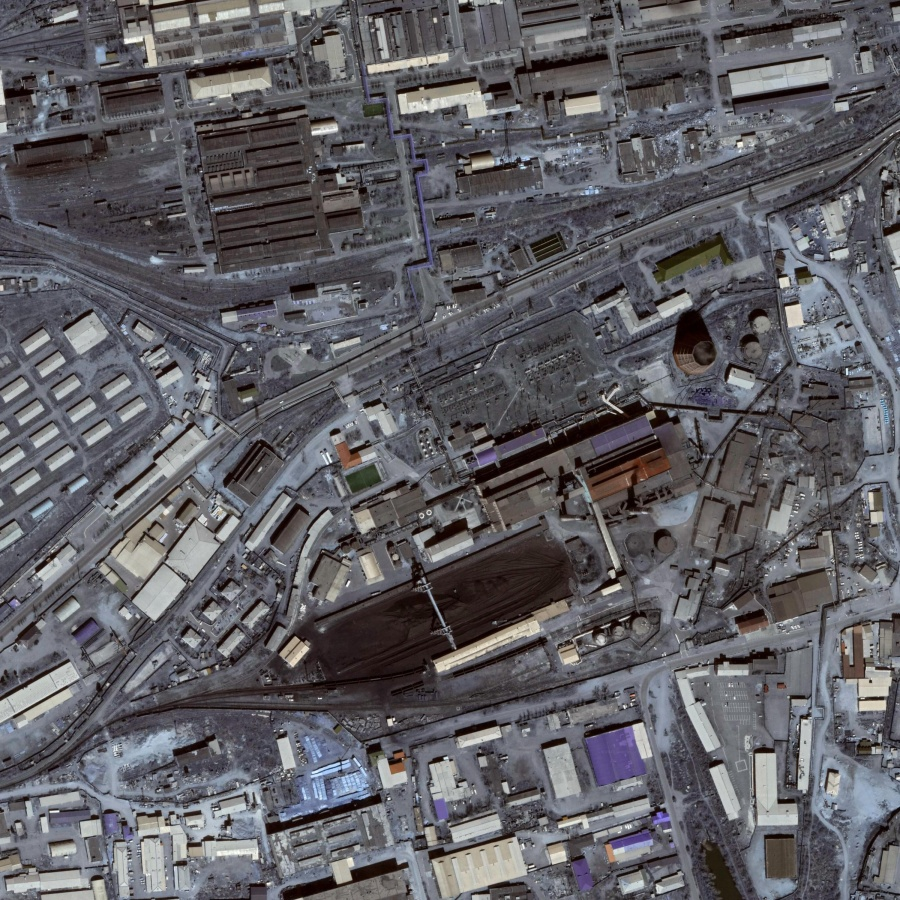PowerPlant: (299, 309, 780, 691)
